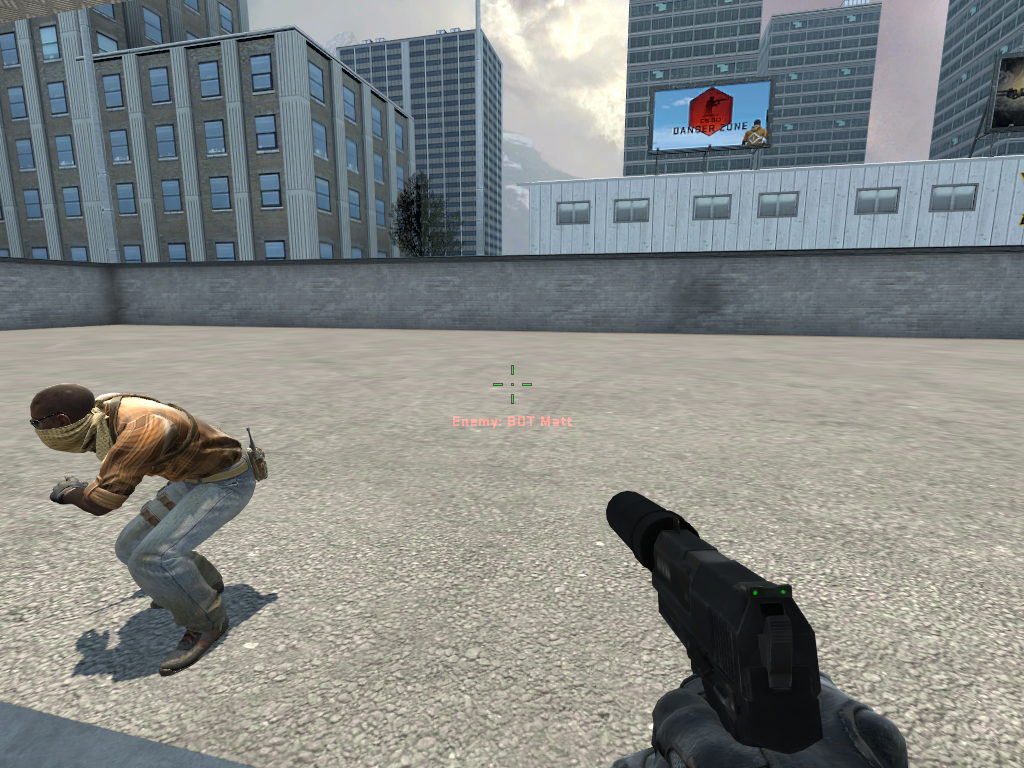tr head: (25, 380, 107, 460)
